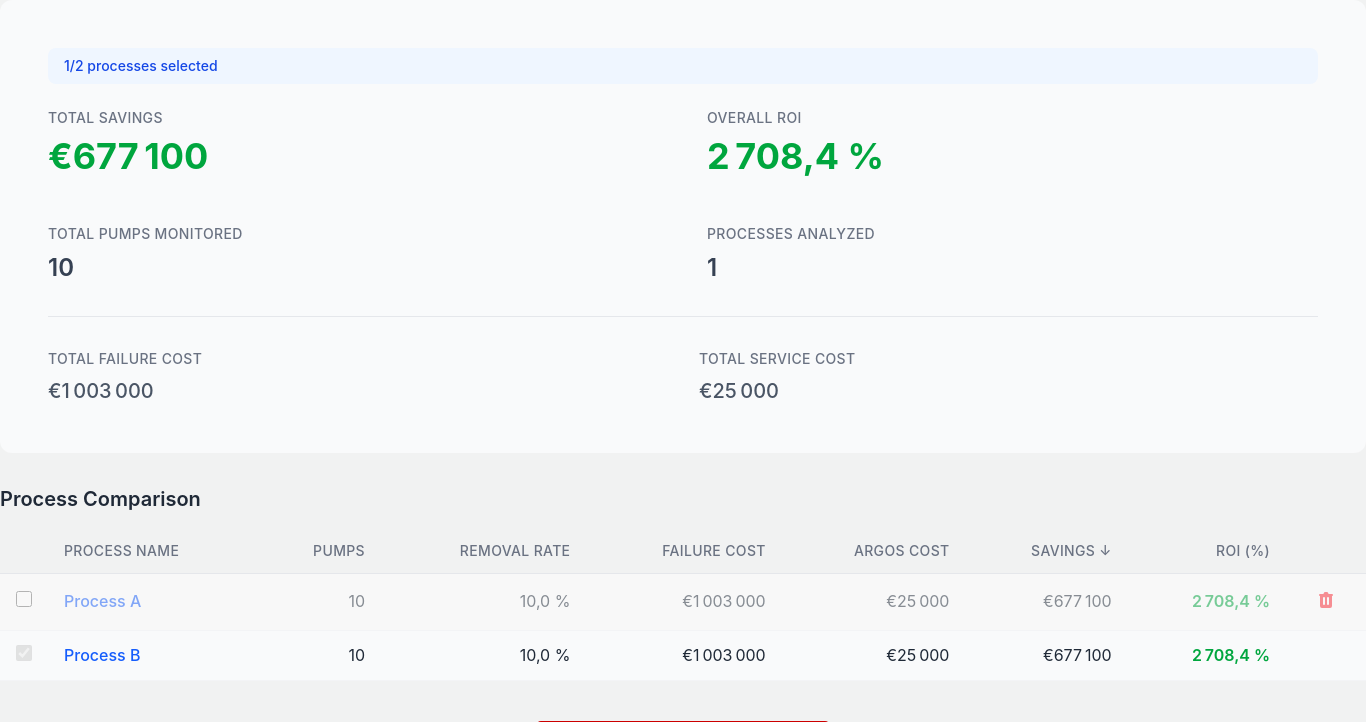
Scenario: GlobalAnalysisView › delete confirmation modal (Story 4.4 AC7) › modal has correct French body text (AC7)
This screenshot has width=1366, height=722.
Click the button named "Delete Process A".
click(1326, 600)  # box [1312,586,1340,614]
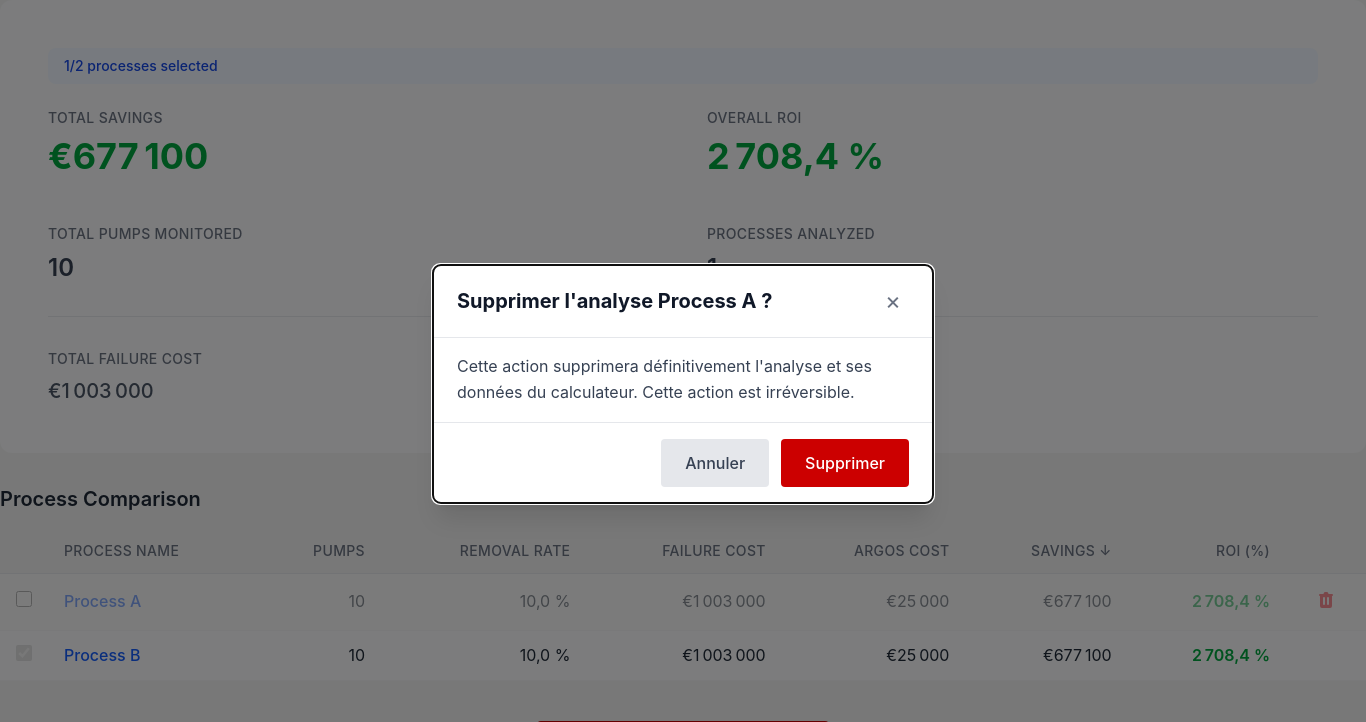
expect the text "Cette action supprimera" is shown: met, box [457,356,872,402]
expect the text "irr" is shown: met, box [457,354,909,406]
